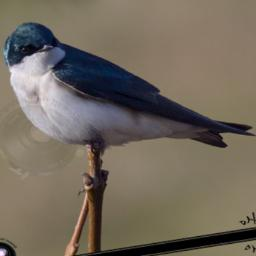Swallow: (0, 0, 256, 179)
